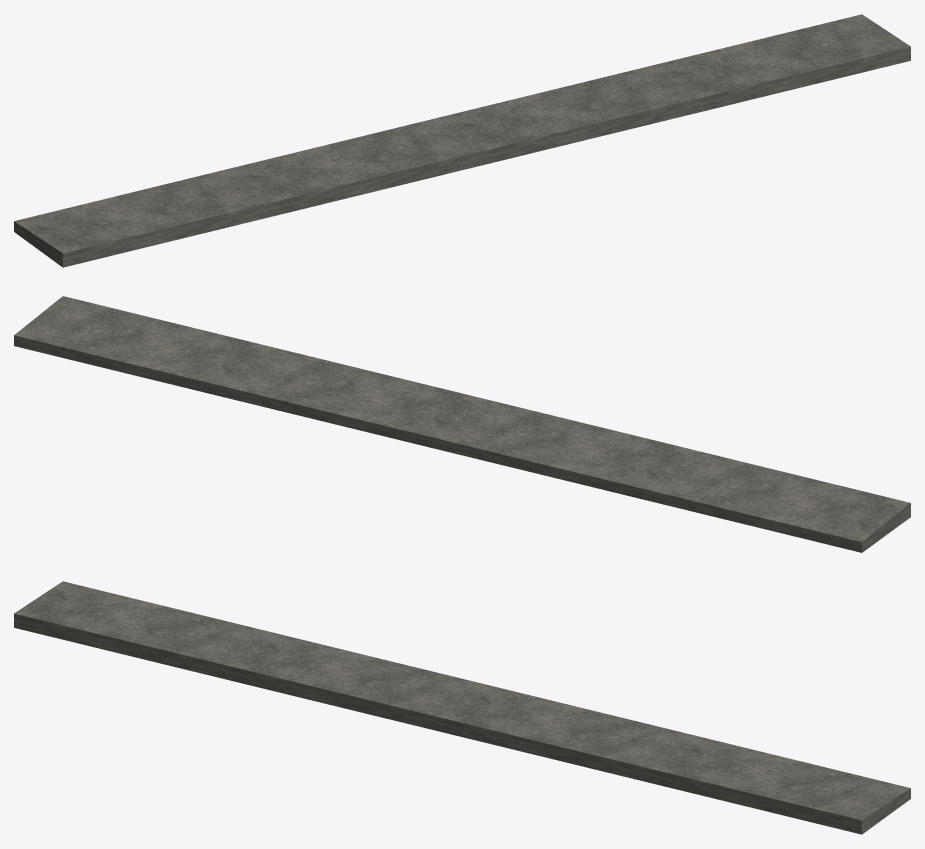
The model's file is PROJECT_Z_Road_Gravel_Shoulder_Right_10m.glb.
3 renders of one model, top to bottom at view 1: azimuth 30°, elevation 25°; view 2: azimuth 150°, elevation 25°; view 3: azimuth 330°, elevation 25°, orthographic.
Visible parts, largest first — view 1: SM_PZ_Shoulder_Right_1m; view 2: SM_PZ_Shoulder_Right_1m; view 3: SM_PZ_Shoulder_Right_1m.
Boxes of the visible parts, x1=… form: SM_PZ_Shoulder_Right_1m: x1=14, y1=14, x2=910, y2=267; SM_PZ_Shoulder_Right_1m: x1=14, y1=296, x2=910, y2=552; SM_PZ_Shoulder_Right_1m: x1=14, y1=581, x2=910, y2=834.
Size of the model in its own units: 10 by 0.16 by 1.
1 material, 1 textured.
